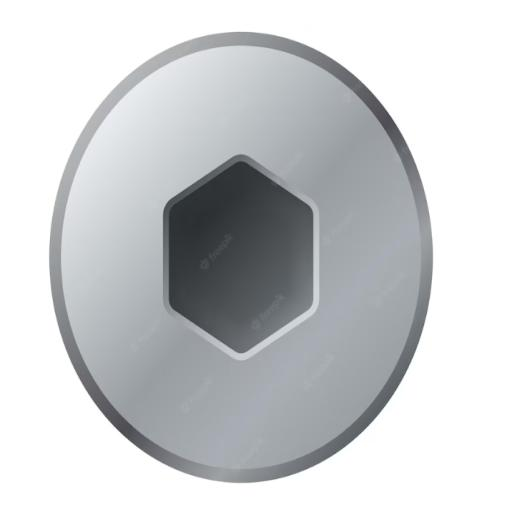Hex-Allen: (49, 28, 434, 480)
